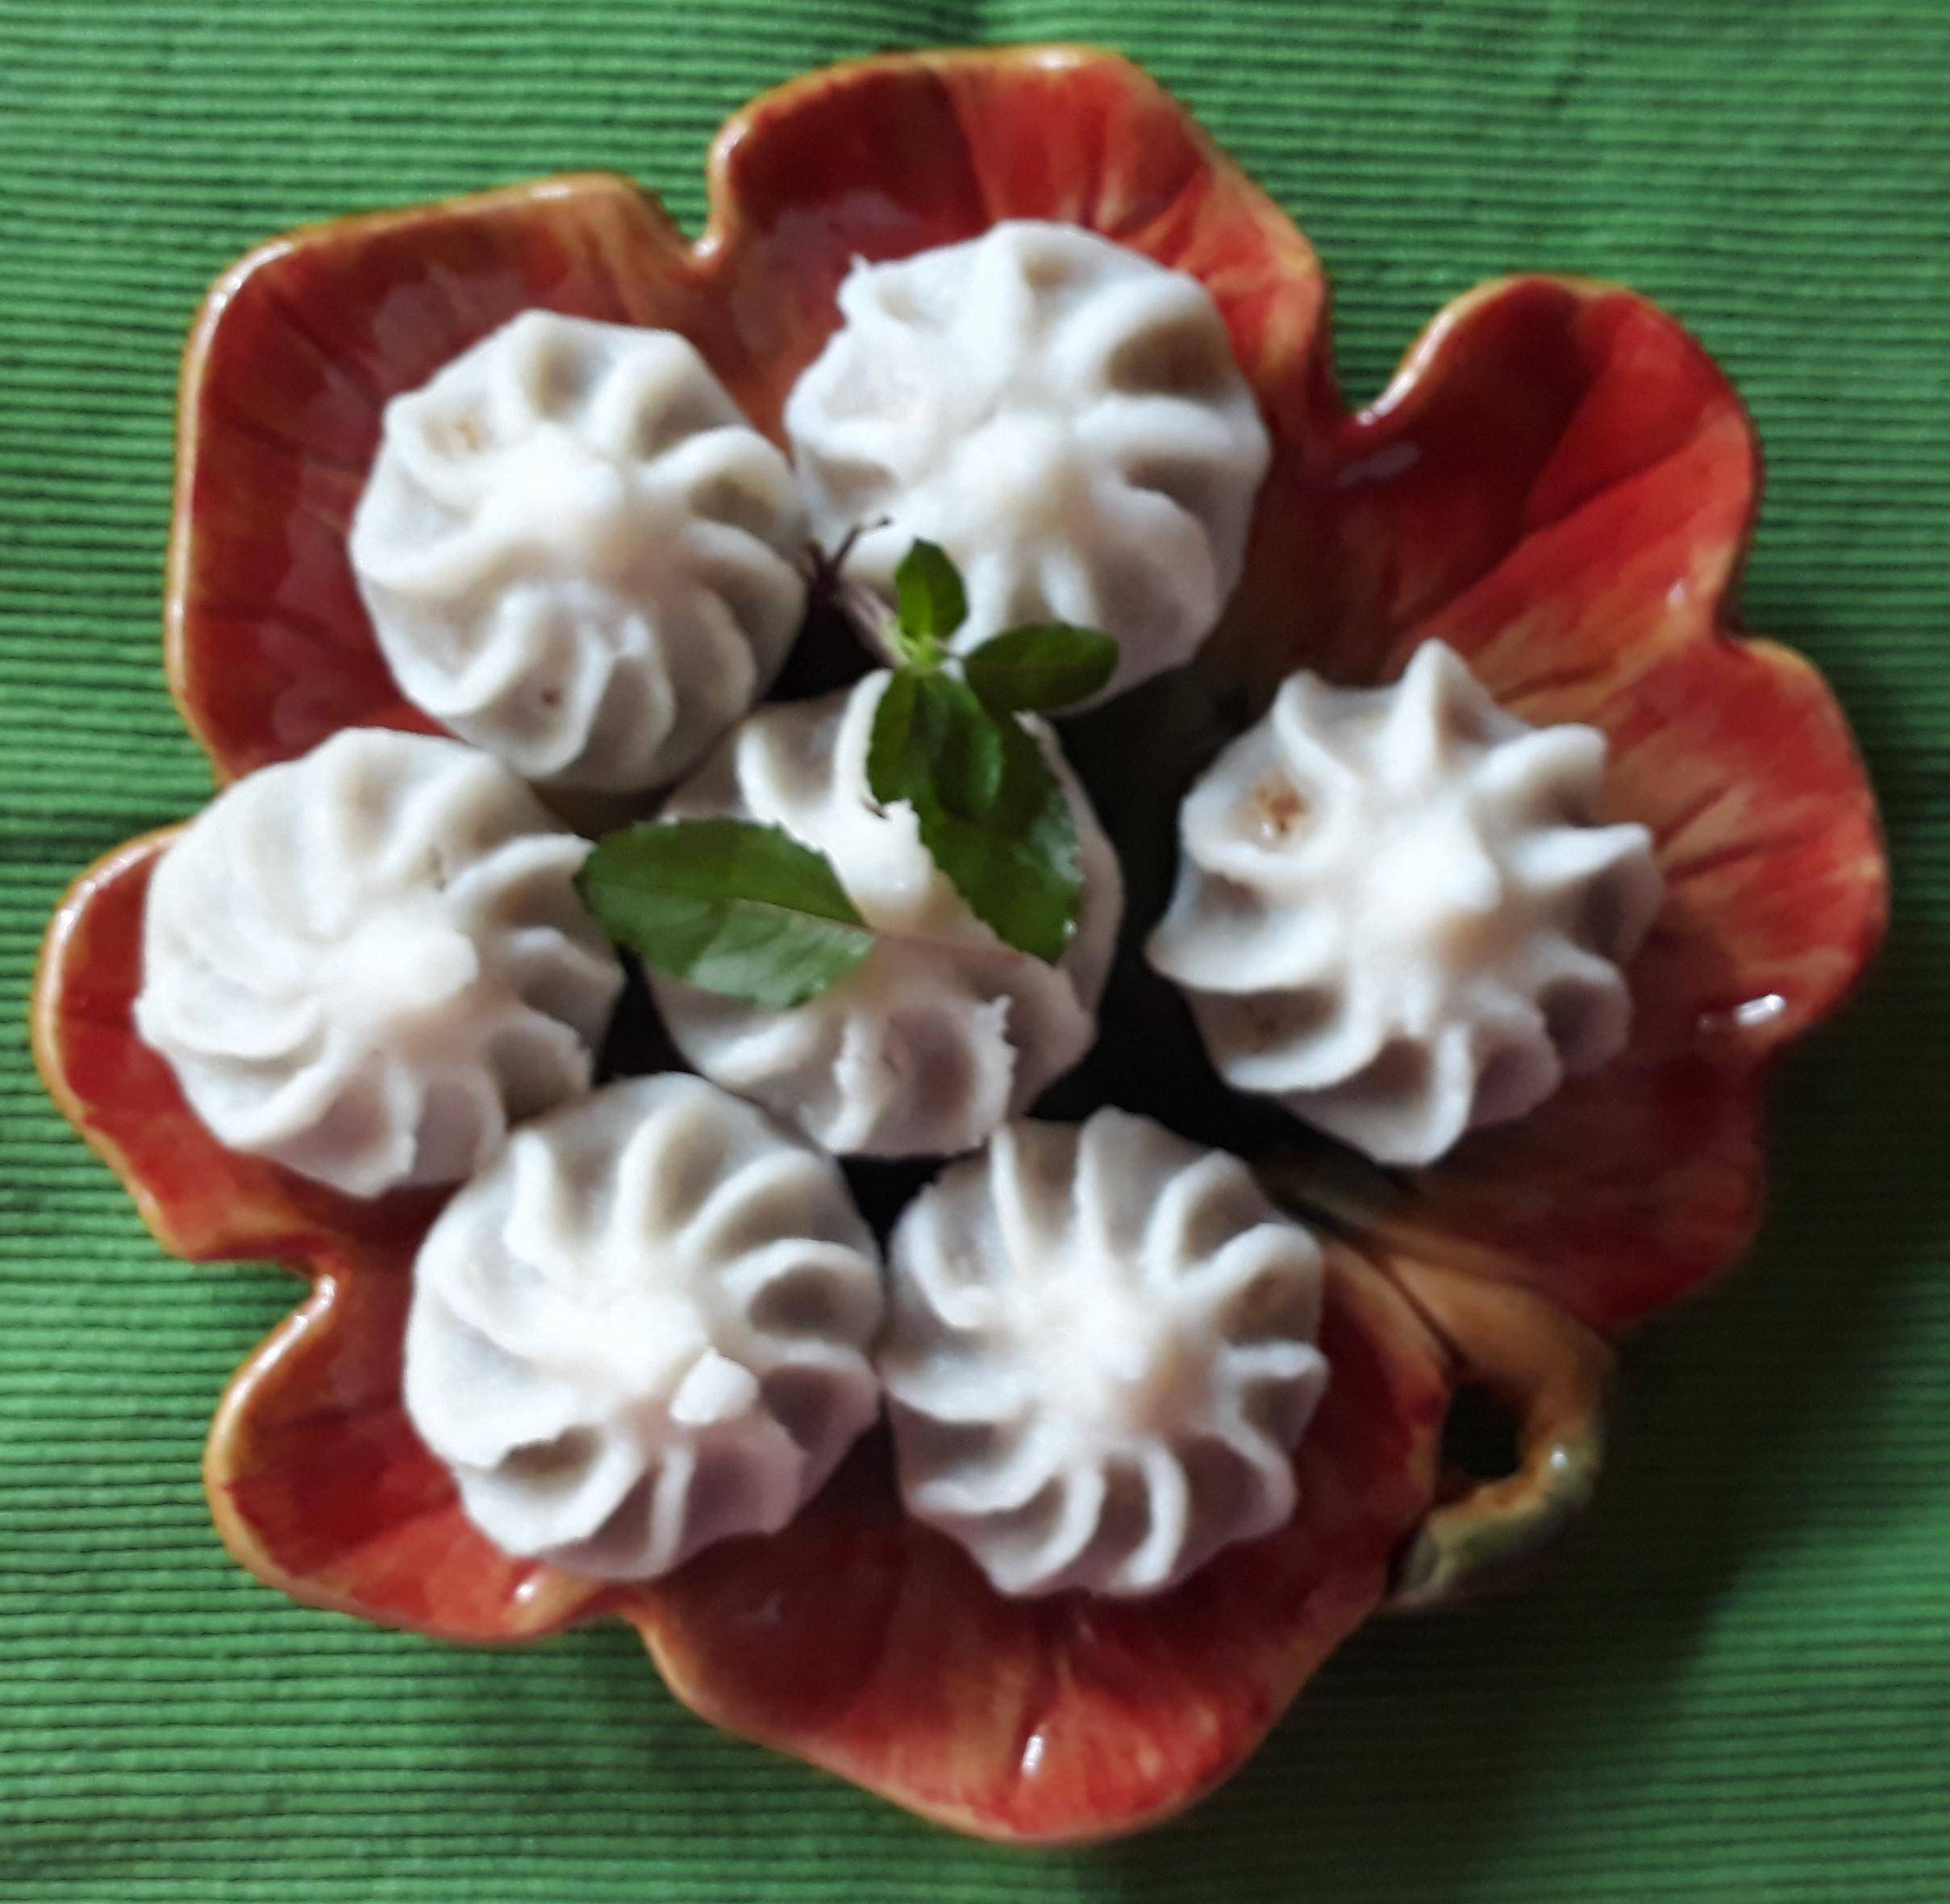modak: (1181, 659, 1678, 1177), (631, 685, 1135, 1184), (412, 1065, 909, 1571), (860, 1123, 1350, 1602), (773, 220, 1287, 663), (110, 731, 630, 1149), (347, 356, 781, 713)
